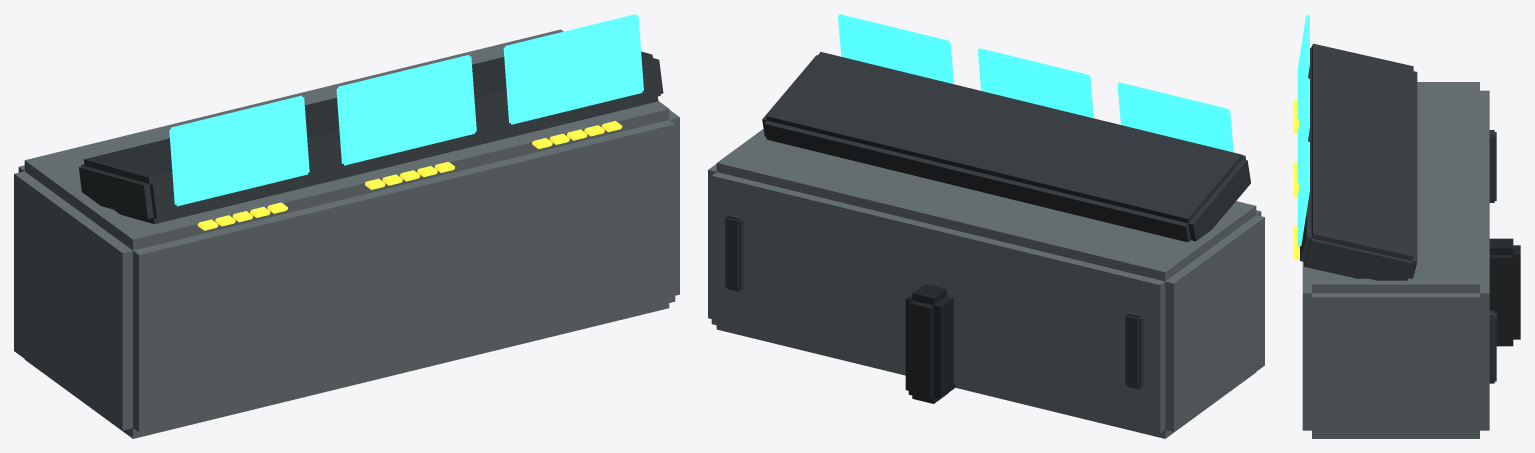
The model's file is OBJ-073_ConsolaPrincipal.fbx.
3 renders of one model, left to right at view 1: azimuth 30°, elevation 25°; view 2: azimuth 150°, elevation 25°; view 3: azimuth 270°, elevation 25°, orthographic. The views are drawn at different scales.
Visible parts, largest first — view 1: console_body, sloped_dashboard, screen_00, screen_02, screen_01; view 2: console_body, sloped_dashboard, cable_trunk, screen_00, screen_01, screen_02, maintenance_hinge.001, maintenance_hinge; view 3: console_body, sloped_dashboard, cable_trunk, screen_02, screen_00, screen_01, maintenance_hinge.001, maintenance_hinge.
Part boxes in pixels (x1,y1,x2,y2): console_body: [14, 29, 679, 438]; sloped_dashboard: [79, 51, 663, 224]; screen_00: [169, 95, 309, 206]; screen_02: [503, 14, 643, 124]; screen_01: [336, 55, 476, 165]; console_body: [708, 129, 1264, 438]; sloped_dashboard: [762, 52, 1250, 242]; cable_trunk: [905, 284, 955, 403]; screen_00: [1117, 82, 1233, 152]; screen_01: [977, 48, 1093, 118]; screen_02: [838, 14, 953, 84]; maintenance_hinge.001: [725, 214, 743, 291]; maintenance_hinge: [1125, 311, 1143, 389]; console_body: [1302, 82, 1489, 438]; sloped_dashboard: [1300, 43, 1417, 280]; cable_trunk: [1489, 238, 1520, 346]; screen_02: [1297, 140, 1309, 247]; screen_00: [1297, 14, 1309, 120]; screen_01: [1297, 77, 1309, 183]; maintenance_hinge.001: [1489, 310, 1496, 383]; maintenance_hinge: [1489, 130, 1496, 202].
Size of the model in its own units: 2.4 by 1.27 by 1.1.
